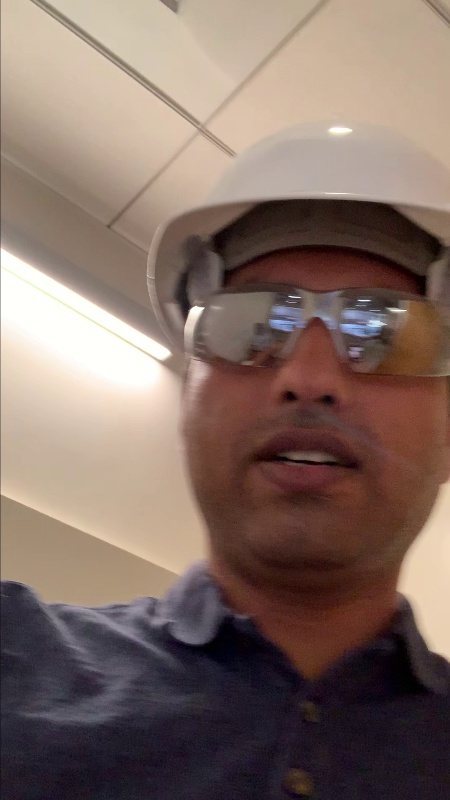glasses: (165, 272, 450, 392)
helmet: (108, 111, 450, 284)
